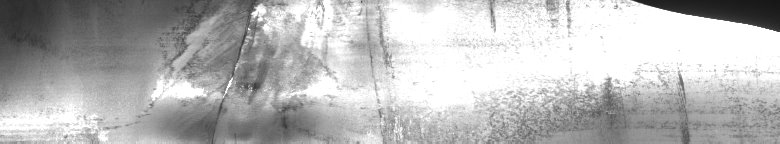ke: (178, 4, 776, 118)
